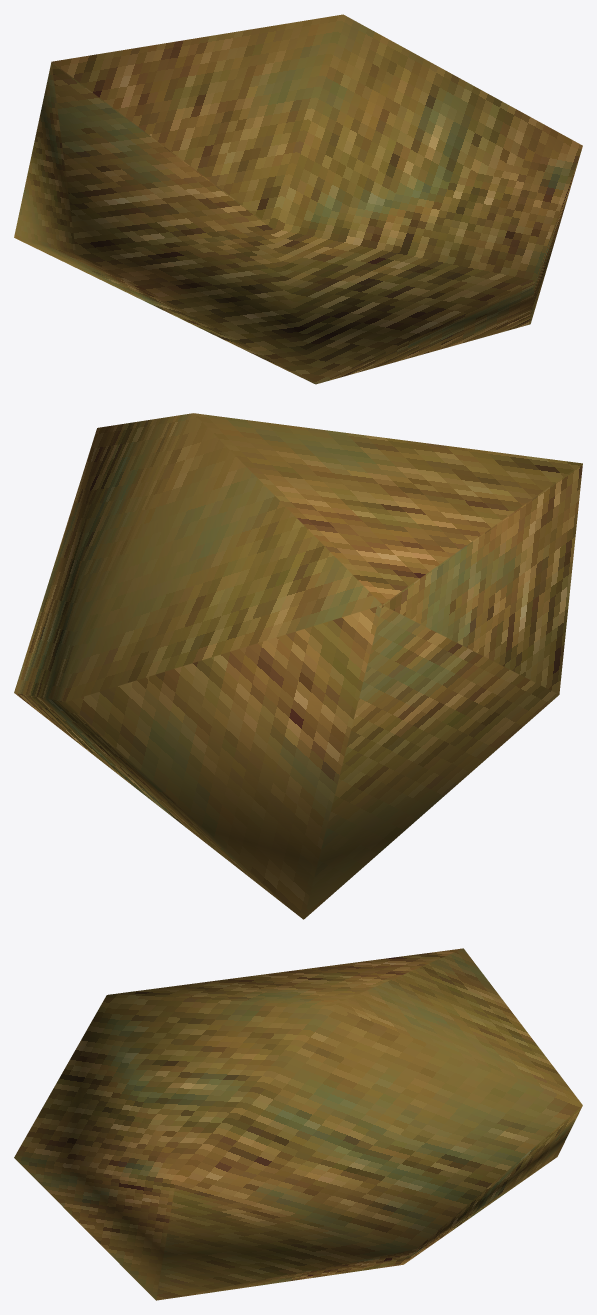
The model's file is stone03.obj.
3 renders of one model, top to bottom at view 1: azimuth 30°, elevation 25°; view 2: azimuth 150°, elevation 25°; view 3: azimuth 270°, elevation 25°, orthographic. The views are drawn at different scales.
Parts seen in each view (by area): view 1: Duplicate01; view 2: Duplicate01; view 3: Duplicate01.
Part boxes in pixels (x1,y1,x2,y2): Duplicate01: [14, 14, 582, 384]; Duplicate01: [14, 413, 582, 919]; Duplicate01: [14, 948, 582, 1300].
Size of the model in its own units: 8.23 by 5.61 by 9.88.
